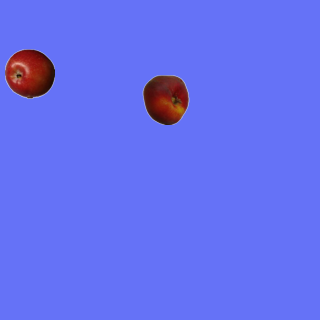Apple Braeburn: (4, 48, 54, 98)
Nectarine Flat: (140, 74, 190, 124)
